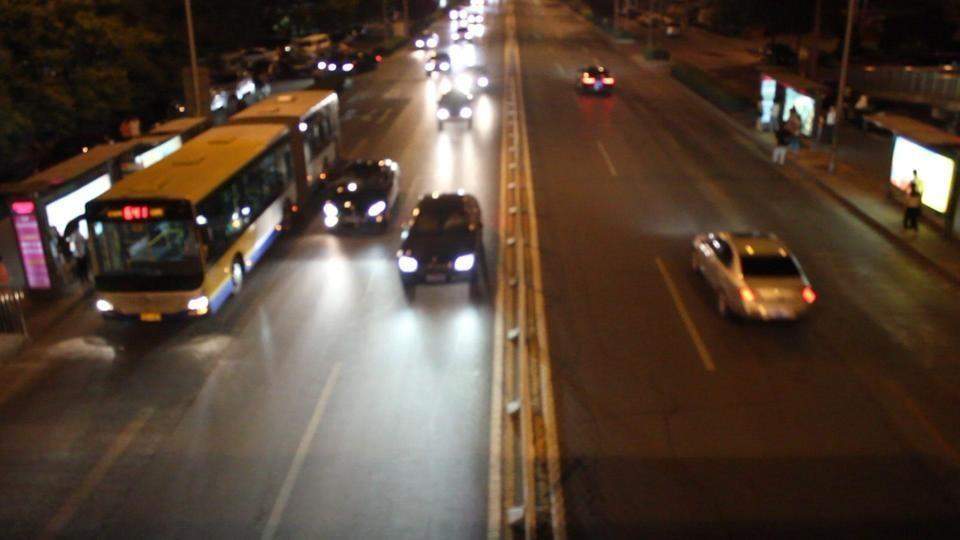car: (689, 229, 820, 325), (395, 189, 486, 288), (319, 158, 401, 234), (280, 32, 330, 71), (433, 88, 475, 132), (310, 51, 357, 90), (575, 62, 617, 96), (412, 33, 439, 50)
